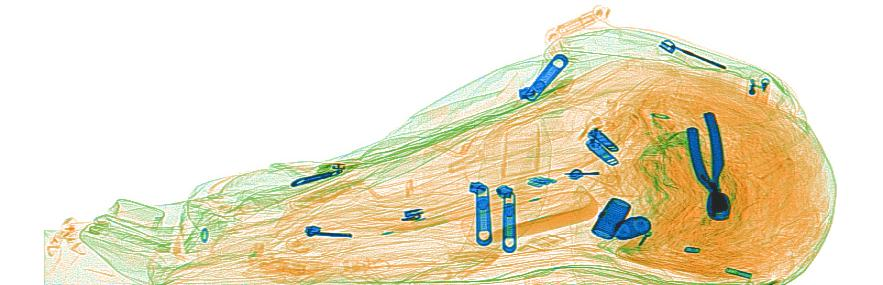lighter: (743, 73, 774, 112)
